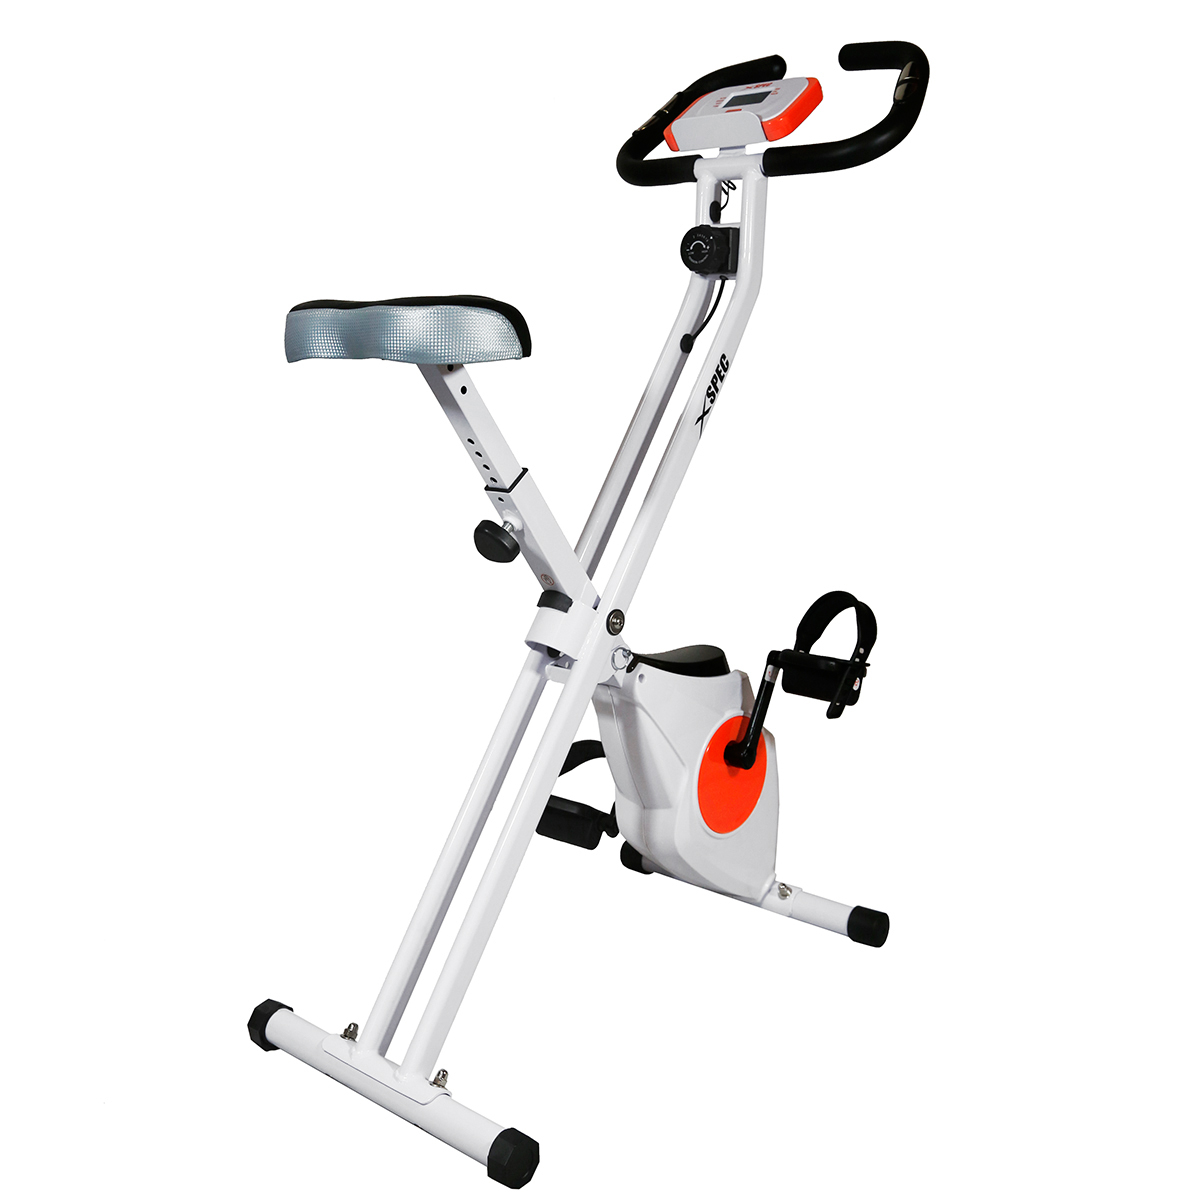gym_bike: (201, 31, 982, 1198)
